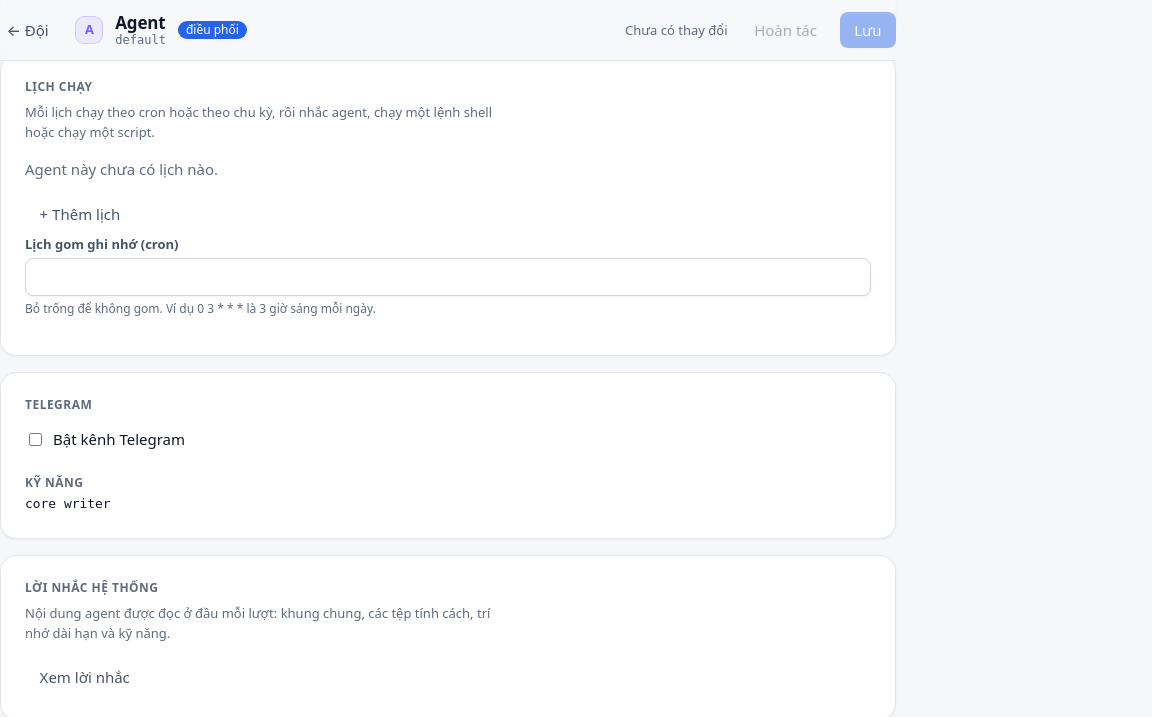
Test case: turning the Telegram channel on › asks for the chat id when a save is tried, not the moment the channel is on
The width and height of the screenshot is (1152, 717).
(page scrolled)
Click the checkbox labelled "Bật kênh Telegram".
click(36, 439)  # box [29,433,42,446]
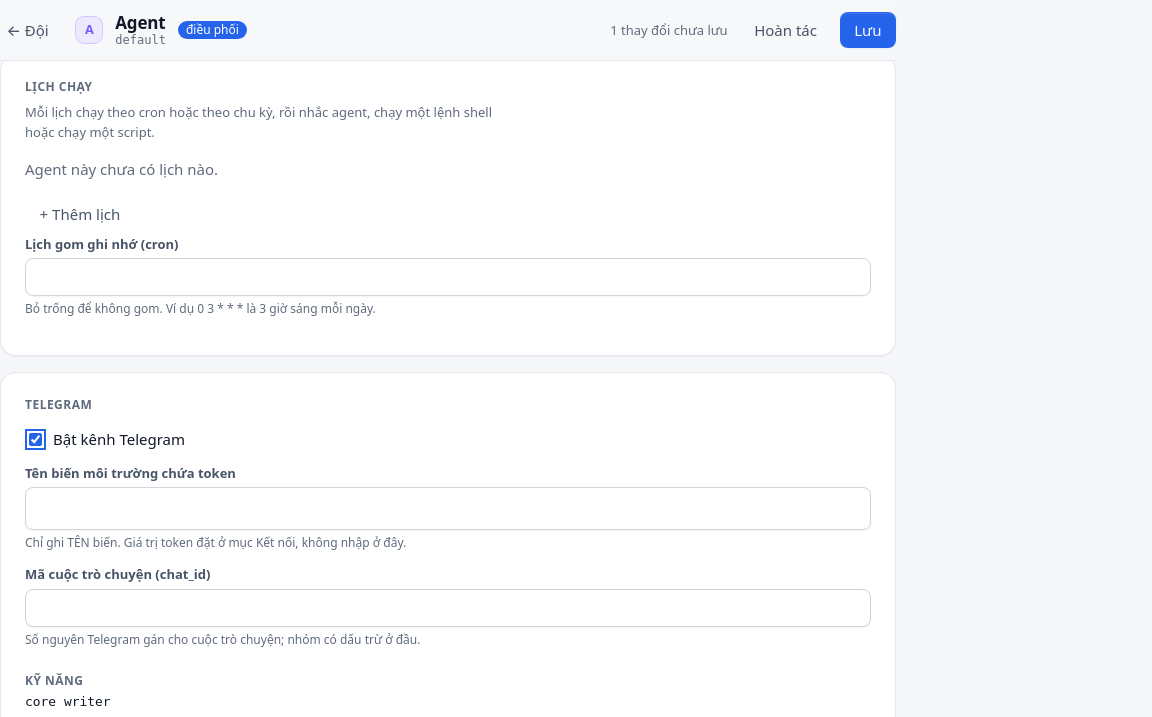
Type "TG_TOKEN" into the field labelled "Tên biến môi trường chứa token".
click(448, 508); type("TG_TOKEN")  # box [25,487,871,530]
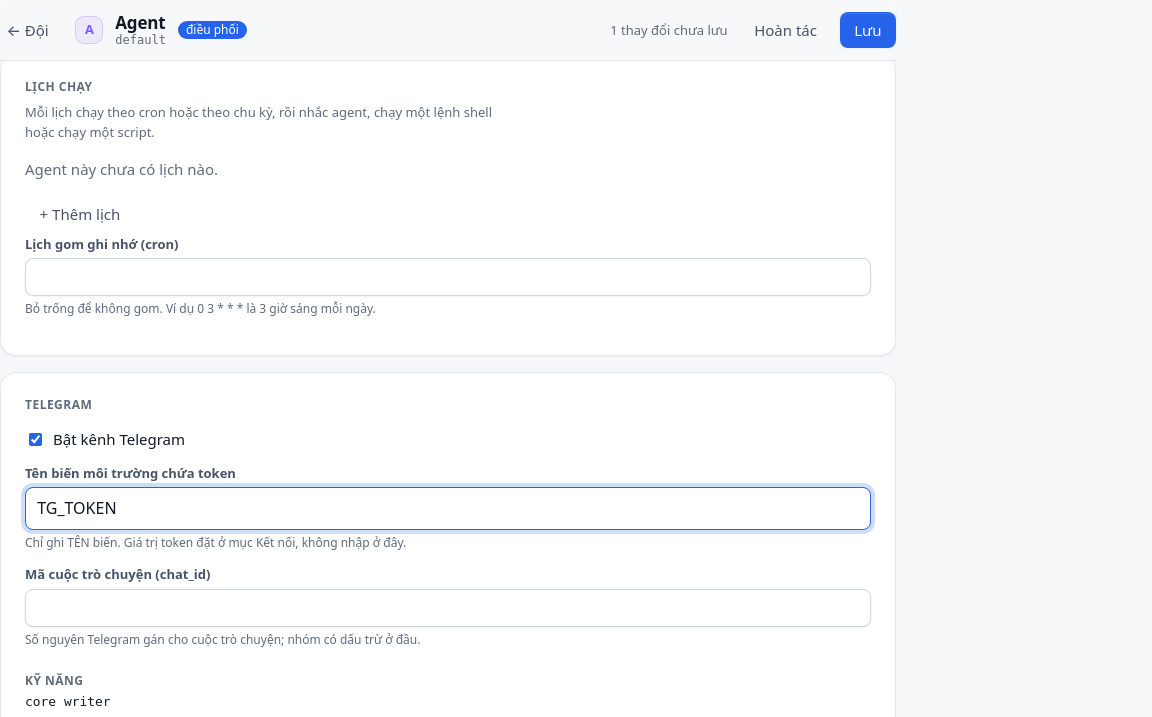
expect the text "chat_id phải là số nguyên khác 0." is not shown: met
Click the button "Lưu".
click(868, 30)  # box [840,12,896,48]
(page scrolled)
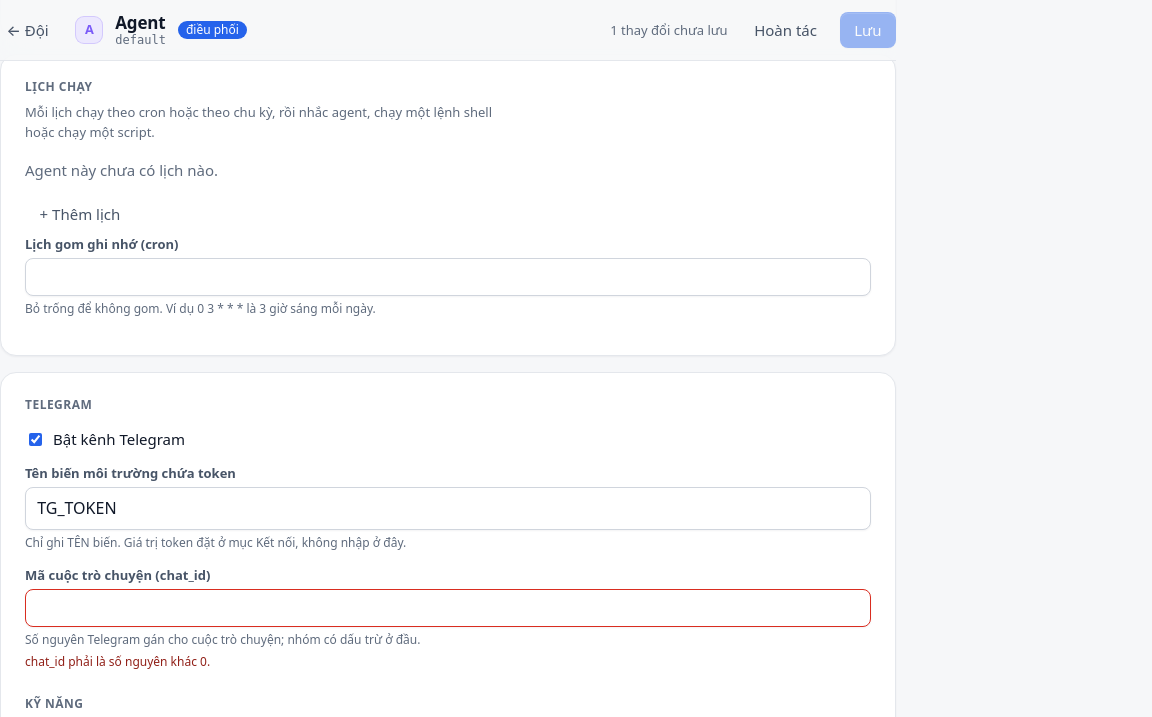
expect the text "chat_id phải là số nguyên khác 0." is shown: met, box [25,653,210,670]
expect the button "Lưu" is disabled: met, box [840,12,896,48]
Type "-100123" into the field labelled "Mã cuộc trò chuyện (chat_id)".
click(448, 608); type("-100123")  # box [25,589,871,627]
(page scrolled)
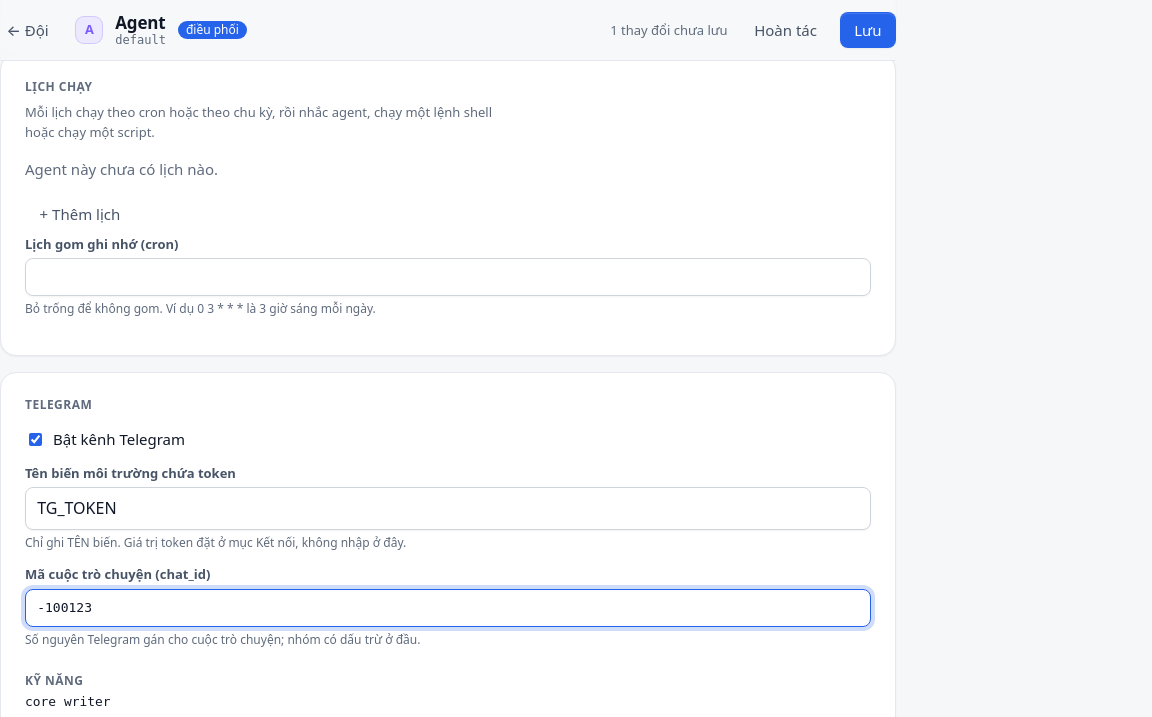
Click the button "Lưu".
click(868, 30)  # box [840,12,896,48]
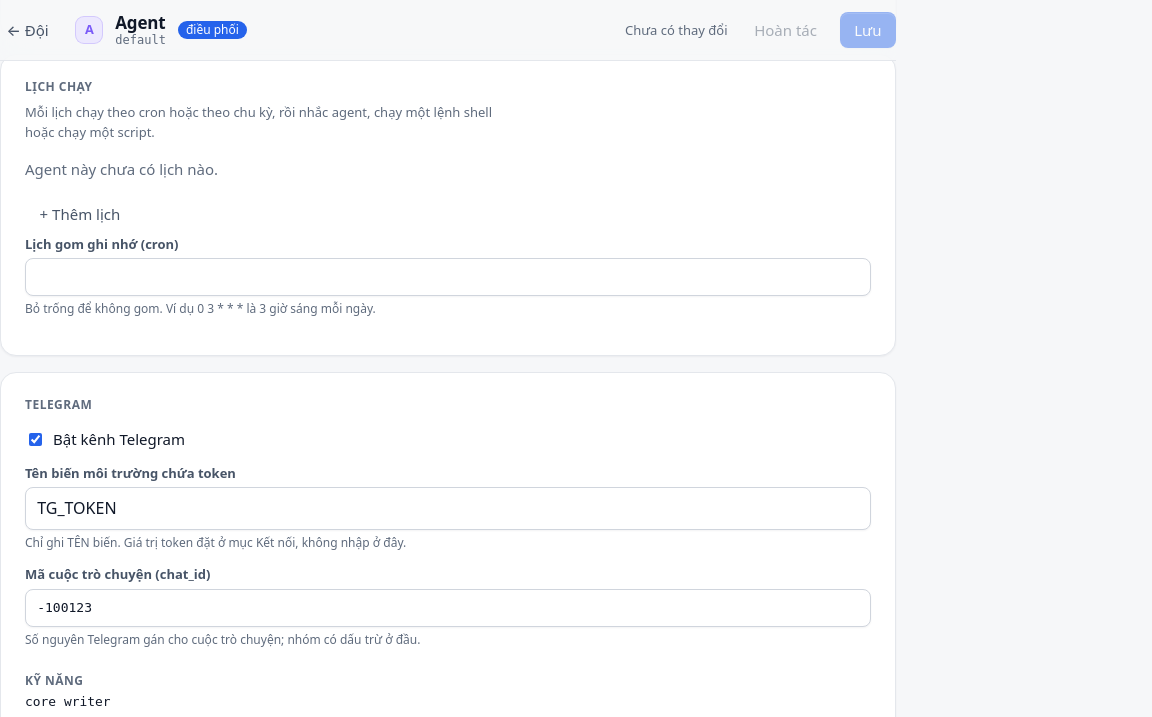
expect the text "Chưa có thay đổi" is shown: met, box [625,20,728,40]
